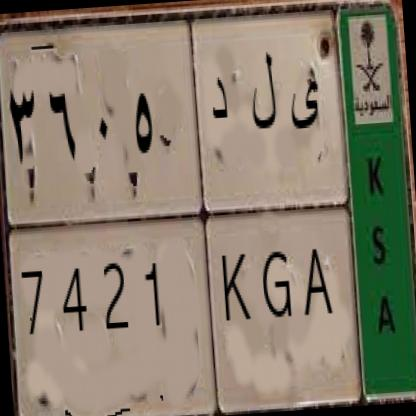english: (9, 214, 362, 412)
